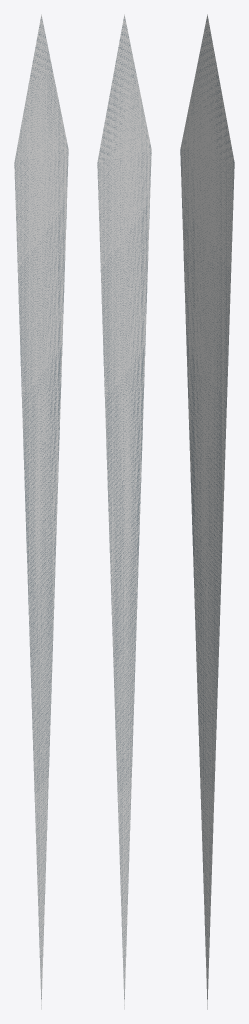
File: X_Axis_Minimap.fbx
3 renders of one model, left to right at view 1: azimuth 30°, elevation 25°; view 2: azimuth 210°, elevation 25°; view 3: azimuth 330°, elevation 25°, orthographic.
Parts seen in each view (by area): view 1: Model; view 2: Model; view 3: Model.
Part boxes in pixels (x1,y1,x2,y2): Model: [14, 14, 68, 1009]; Model: [97, 14, 151, 1009]; Model: [180, 14, 234, 1009].
Bounding box in the file's own units: 16.74 × 293 × 1.58e-12.
